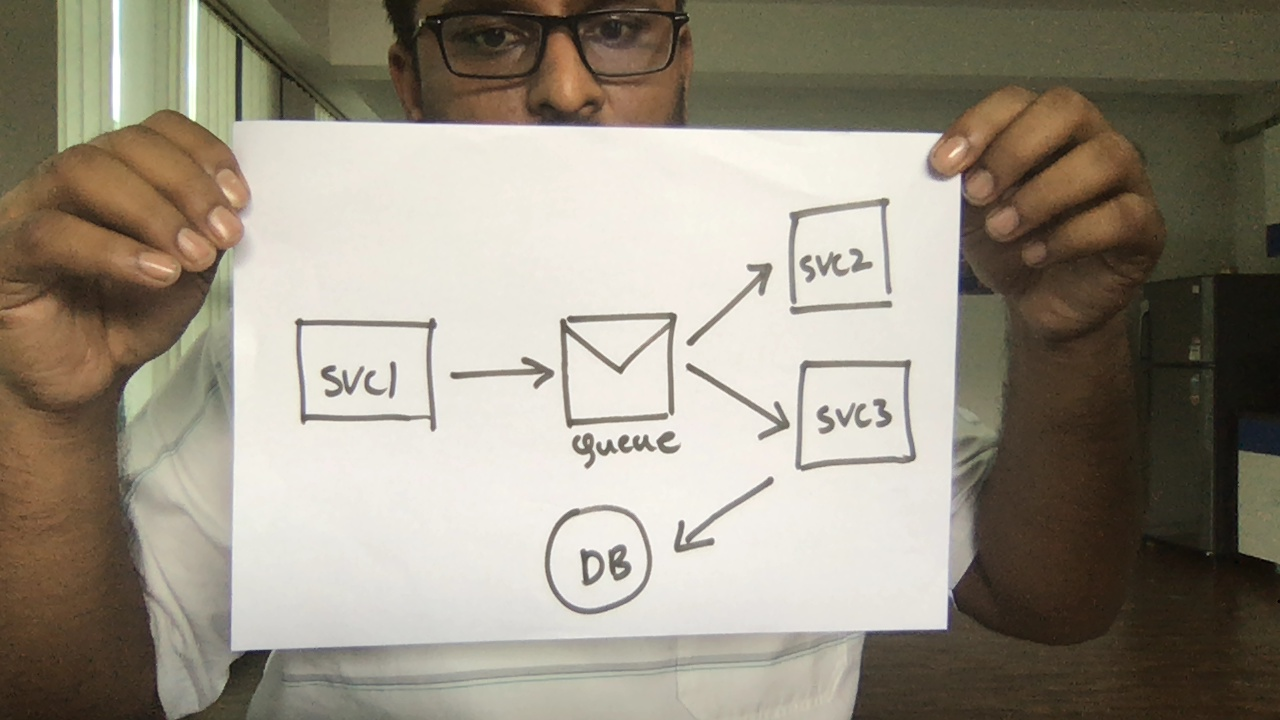arrow: (671, 468, 789, 563), (683, 355, 797, 452), (680, 251, 780, 350), (441, 348, 559, 409)
db: (539, 499, 661, 615)
ec2: (288, 312, 448, 433), (787, 352, 923, 475), (783, 194, 899, 319)
sns: (554, 307, 690, 459)
